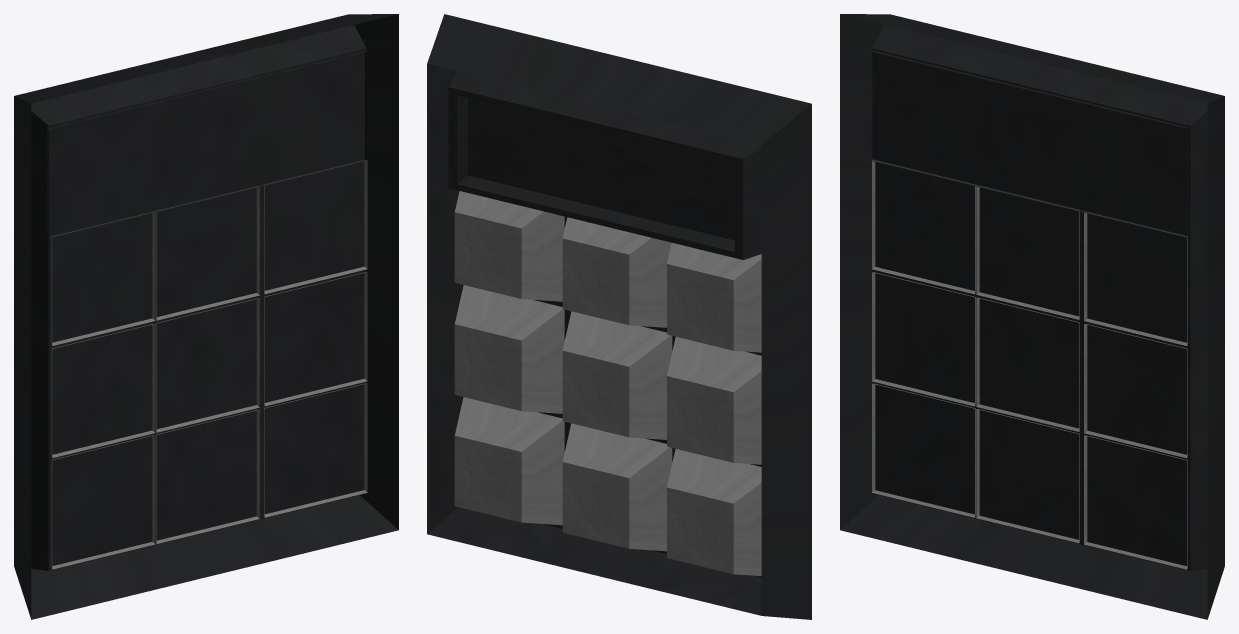
Rendered from codigo.fbx.
The picture shows the model from 3 angles, left to right: view 1: azimuth 30°, elevation 25°; view 2: azimuth 150°, elevation 25°; view 3: azimuth 330°, elevation 25°; orthographic projection.
Visible parts, largest first — view 1: Panel de números; view 2: Panel de números; view 3: Panel de números.
Part boxes in pixels (x1,y1,x2,y2): Panel de números: (14,14,398,619); Panel de números: (427,14,811,619); Panel de números: (840,14,1224,619).
Bounding box in the file's own units: 15.24 × 20.46 × 2.42.
